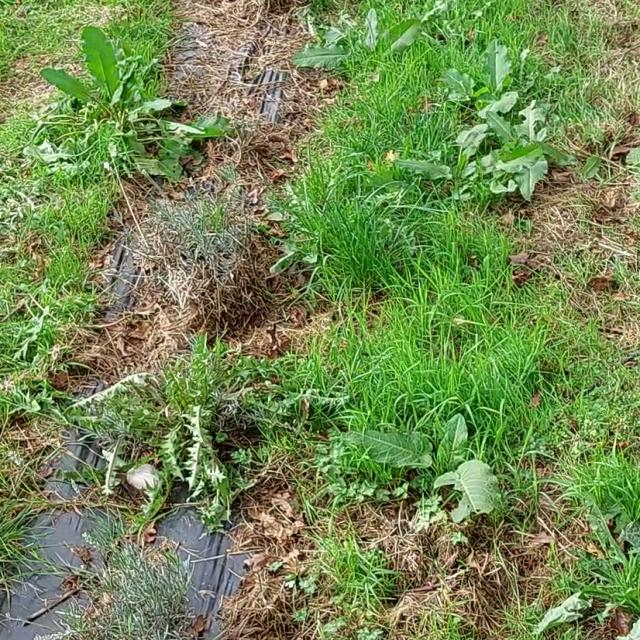organic waste: (34, 29, 225, 193), (346, 406, 524, 537), (390, 24, 558, 142), (369, 105, 541, 214), (292, 5, 458, 86)
